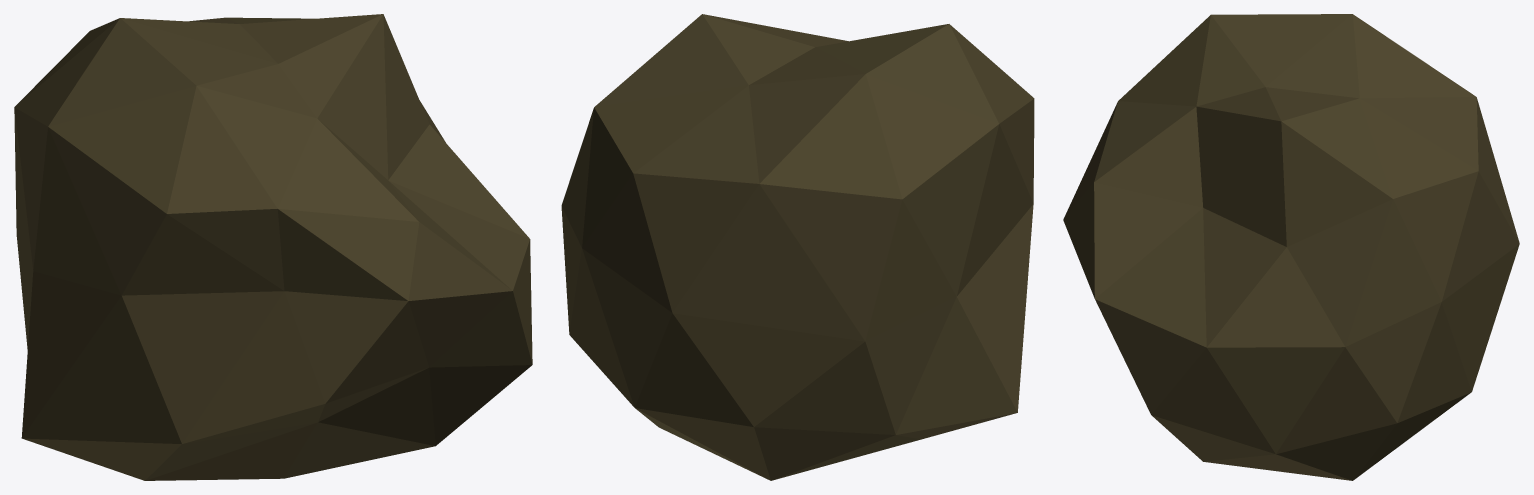
The model's file is roche2.fbx.
The picture shows the model from 3 angles, left to right: view 1: azimuth 30°, elevation 25°; view 2: azimuth 150°, elevation 25°; view 3: azimuth 270°, elevation 25°; orthographic projection. The views are drawn at different scales.
Parts seen in each view (by area): view 1: petit pierre; view 2: petit pierre; view 3: petit pierre.
Boxes of the visible parts, box(x1,y1,x2,y2) form: petit pierre: box(14, 14, 532, 480); petit pierre: box(561, 14, 1034, 480); petit pierre: box(1063, 14, 1519, 480).
Size of the model in its own units: 514 by 479 by 512.
